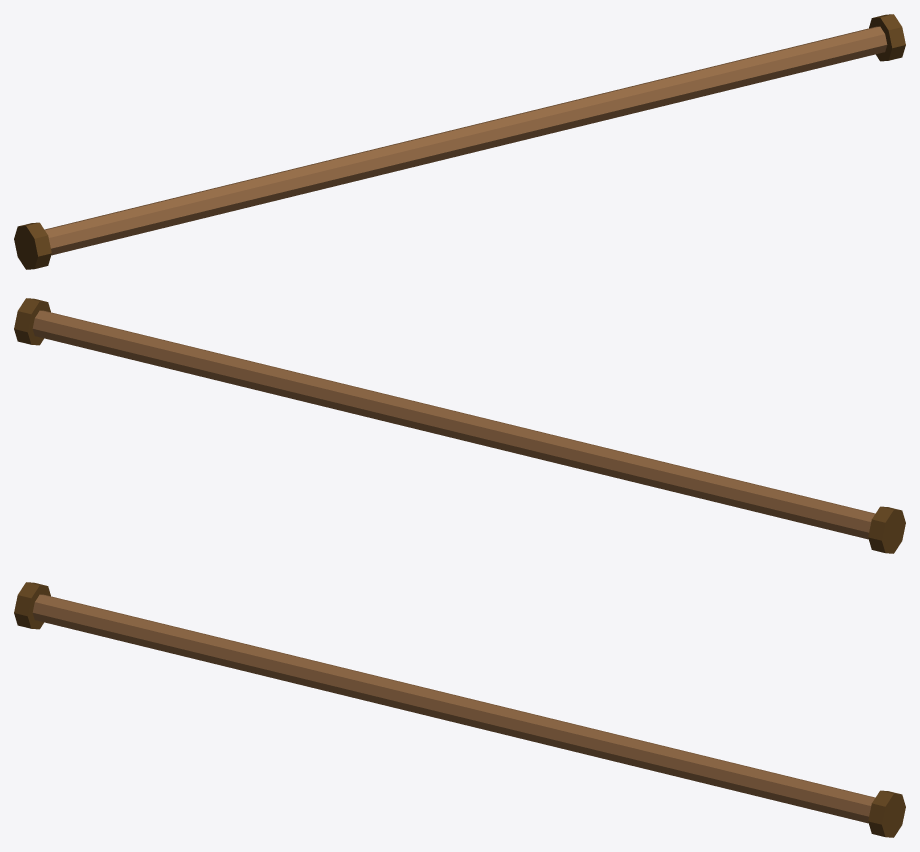
Rendered from curtain_pole.glb.
3 views of the same model, one above another, from view 1: azimuth 30°, elevation 25°; view 2: azimuth 150°, elevation 25°; view 3: azimuth 330°, elevation 25° (orthographic).
Visible parts, largest first — view 1: Curtains Ac; view 2: Curtains Ac; view 3: Curtains Ac.
Boxes of the visible parts, bbox=[...] form: Curtains Ac: bbox=[14, 14, 905, 269]; Curtains Ac: bbox=[14, 298, 905, 553]; Curtains Ac: bbox=[14, 582, 905, 837].
Bounding box in the file's own units: 1.8 × 0.087 × 0.0866.
Materials: 1 (1 with a texture image).
